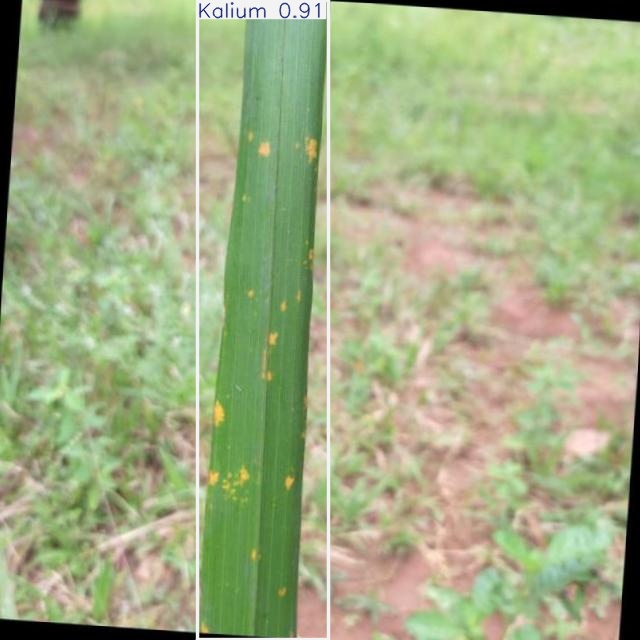Kalium: (197, 0, 328, 640)
